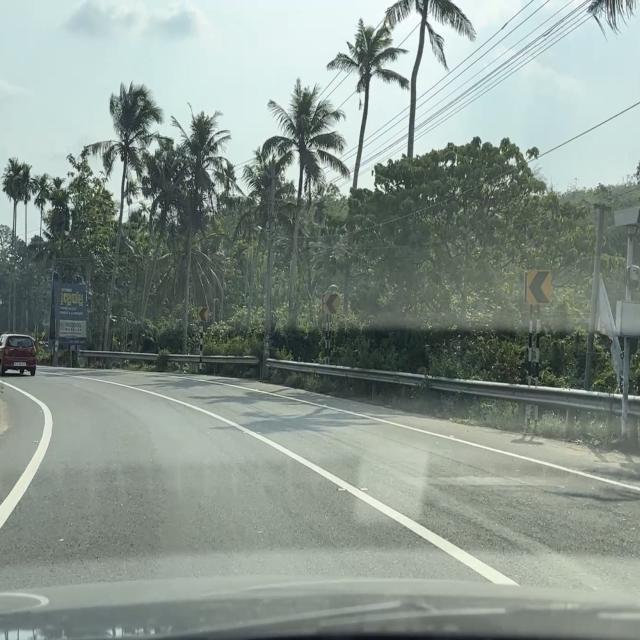TURN_LEFT: (526, 269, 552, 306), (324, 294, 338, 314), (198, 306, 209, 323)
